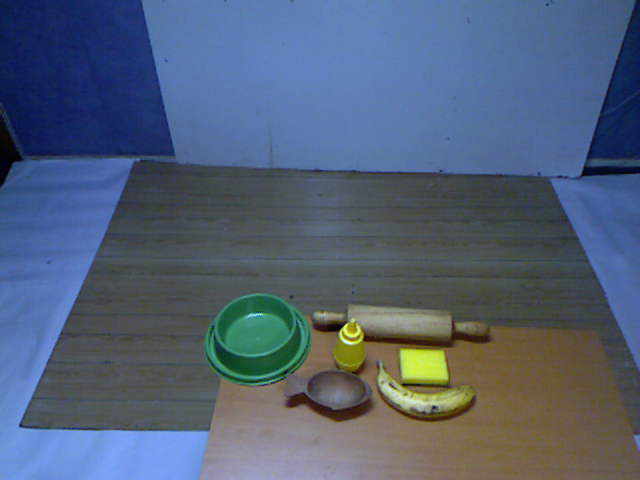esponja: (390, 342, 457, 392)
mostaza: (328, 316, 370, 374)
pescado: (281, 365, 375, 416)
platano: (370, 357, 481, 426)
platoperro: (200, 291, 312, 389)
uslero: (308, 296, 496, 351)
